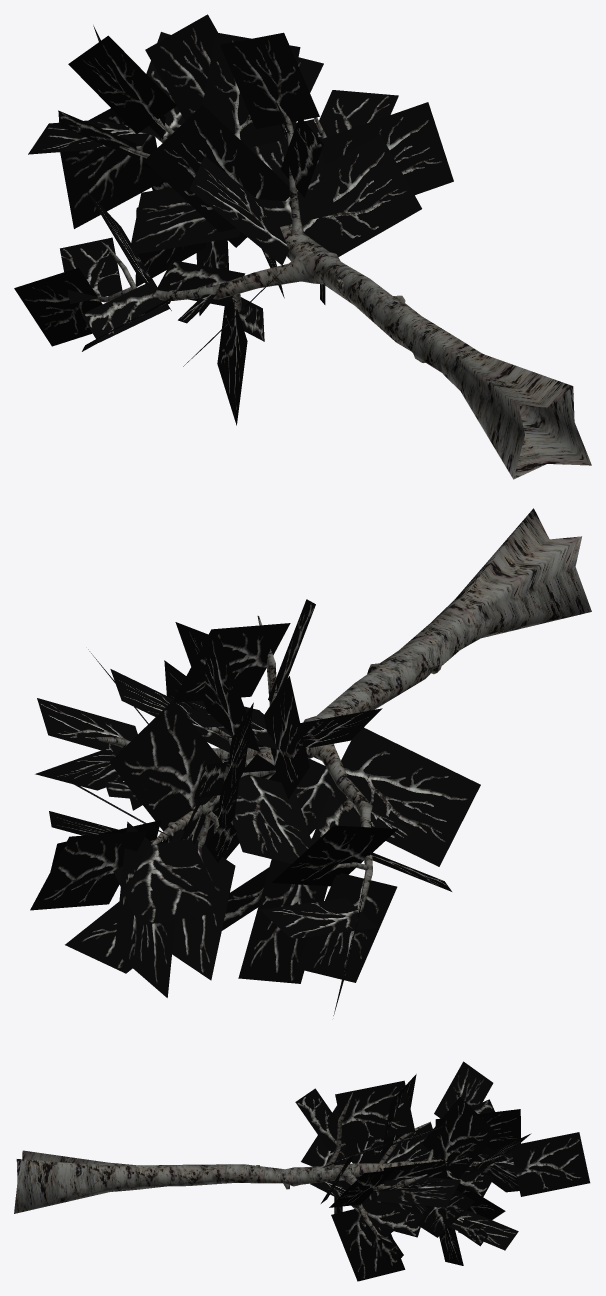
The model's file is WhiteBirch_A2.obj.
3 renders of one model, top to bottom at view 1: azimuth 30°, elevation 25°; view 2: azimuth 150°, elevation 25°; view 3: azimuth 270°, elevation 25°, orthographic. The views are drawn at different scales.
Parts seen in each view (by area): view 1: Leaf_a1__Mt_Treeleaf_00, polySurface1436__Mt_Tree_Stump, polySurface1436__Mt_Tree_Trunk; view 2: Leaf_a1__Mt_Treeleaf_00, polySurface1436__Mt_Tree_Trunk, polySurface1436__Mt_Tree_Stump; view 3: Leaf_a1__Mt_Treeleaf_00, polySurface1436__Mt_Tree_Trunk, polySurface1436__Mt_Tree_Stump.
Part boxes in pixels (x1=…): Leaf_a1__Mt_Treeleaf_00: x1=14, y1=14, x2=453, y2=425; polySurface1436__Mt_Tree_Stump: x1=444, y1=344, x2=591, y2=479; polySurface1436__Mt_Tree_Trunk: x1=90, y1=115, x2=466, y2=376; Leaf_a1__Mt_Treeleaf_00: x1=30, y1=599, x2=480, y2=1015; polySurface1436__Mt_Tree_Trunk: x1=97, y1=606, x2=475, y2=936; polySurface1436__Mt_Tree_Stump: x1=440, y1=508, x2=591, y2=646; Leaf_a1__Mt_Treeleaf_00: x1=295, y1=1061, x2=590, y2=1281; polySurface1436__Mt_Tree_Trunk: x1=129, y1=1090, x2=494, y2=1242; polySurface1436__Mt_Tree_Stump: x1=14, y1=1150, x2=129, y2=1213.
Bounding box in the file's own units: 9.45 × 9.95 × 21.42.
Materials: 7 (6 with a texture image).
